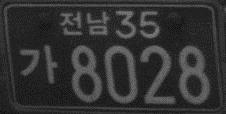0: (105, 44, 138, 107)
2: (140, 44, 176, 105)
3: (114, 8, 135, 39)
5: (139, 8, 160, 39)
8: (177, 42, 212, 105), (71, 42, 104, 104)
가: (17, 45, 58, 85)
전남_O: (58, 9, 109, 36)
